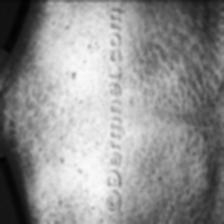Non-Cancerous Skin Condition: (0, 0, 99, 224), (130, 7, 224, 217)
